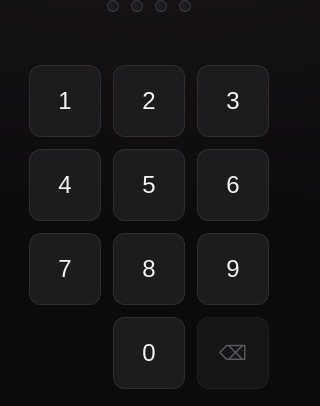
Test: PinPad › starts the delete key disabled and enables it once something is typed
Expected: the button named "Delete last digit" is disabled, [197,317,269,389]
Click the button "1": coordinates (65, 101) [29,65,101,137]
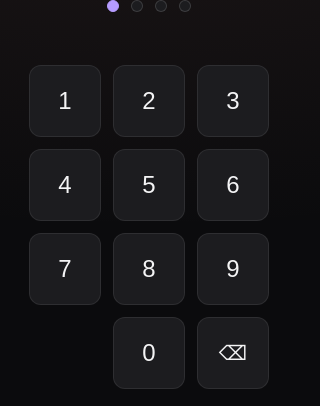
Result: the button named "Delete last digit" is enabled at [197,317,269,389]
